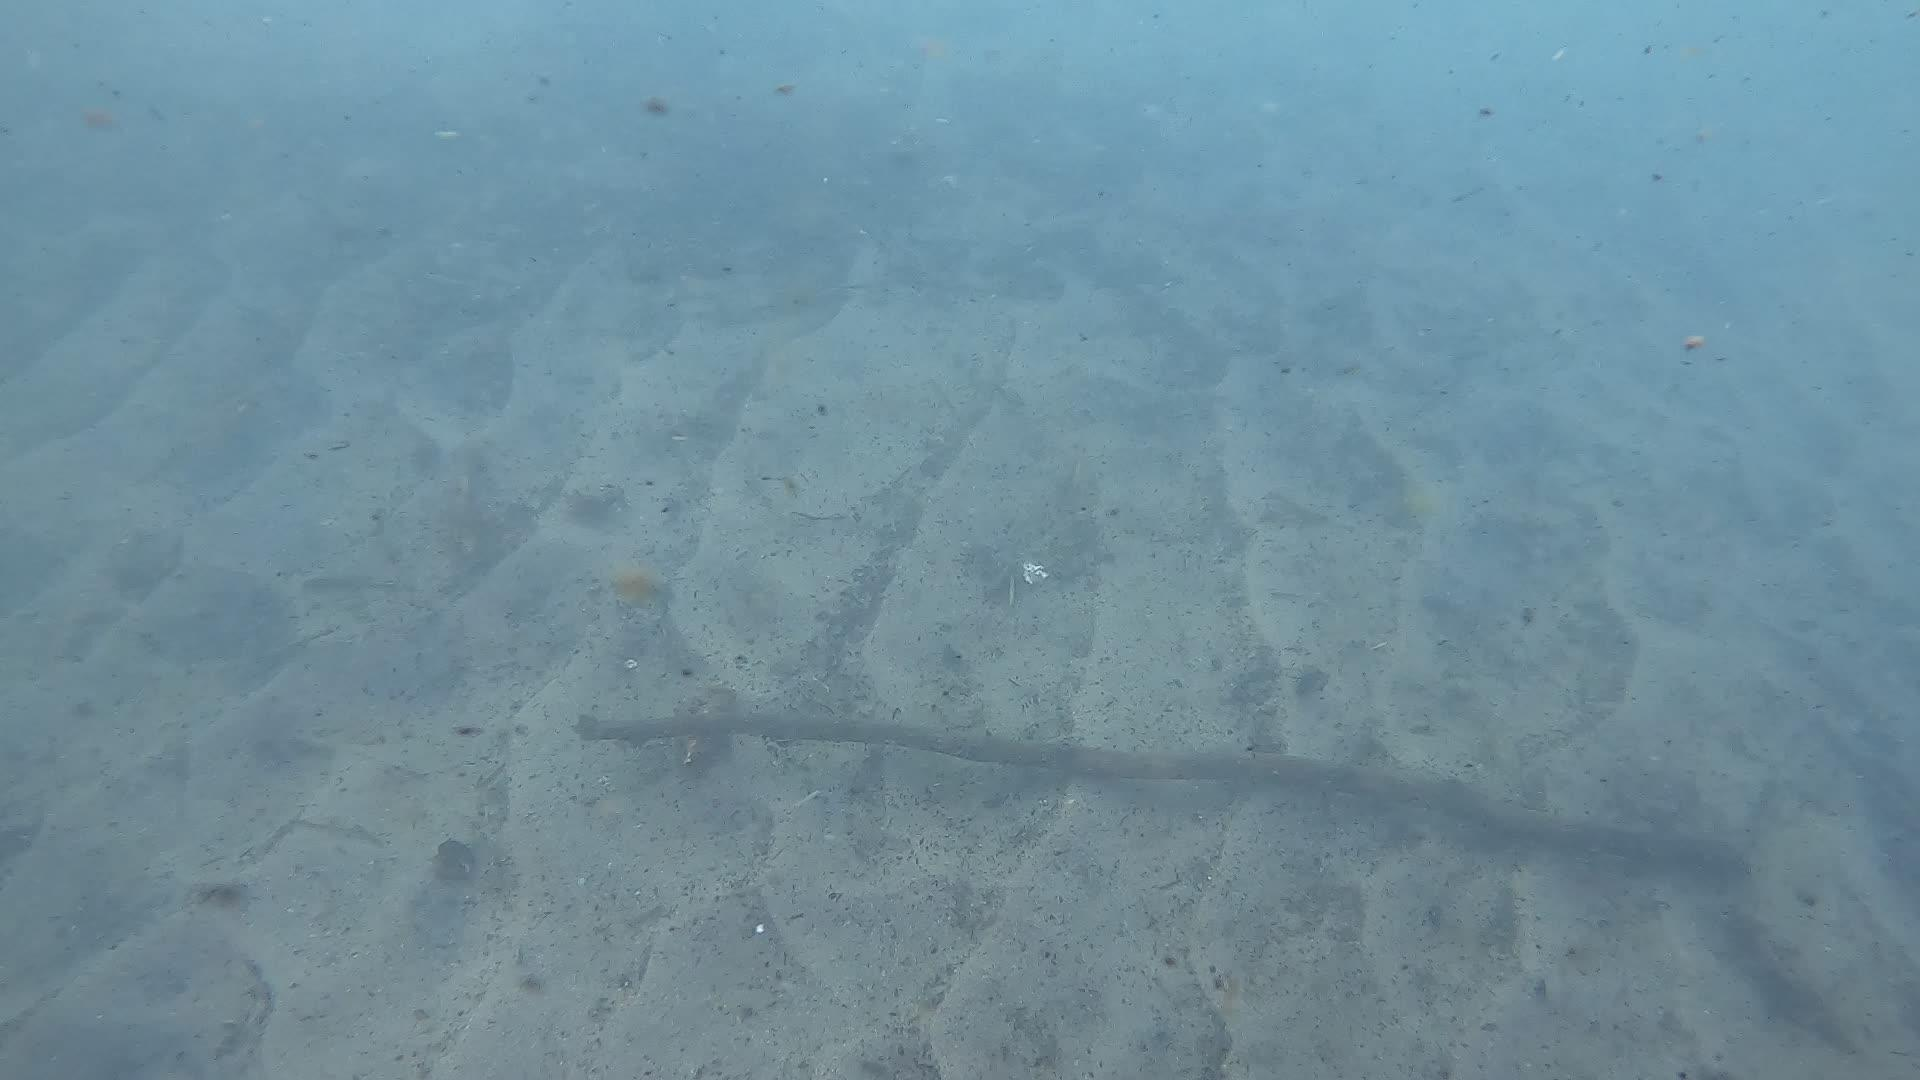wood: (568, 709, 1842, 1044)
